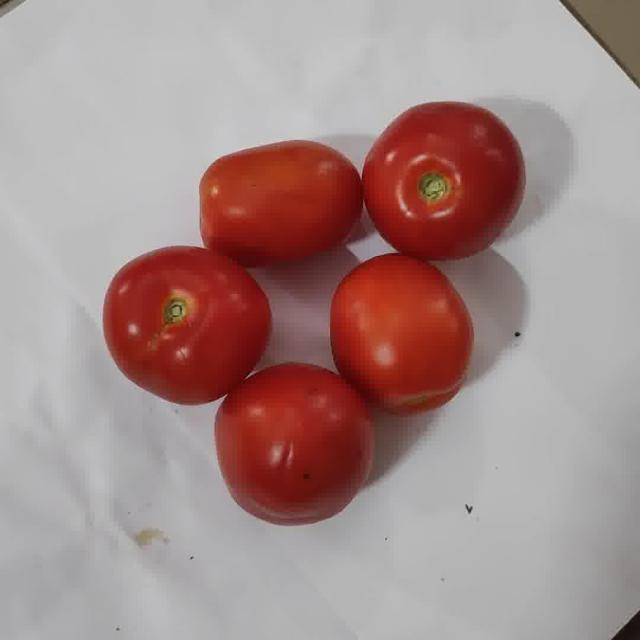Tomato: (103, 248, 270, 404), (215, 363, 374, 525), (361, 103, 524, 260), (330, 254, 472, 411), (200, 140, 360, 267)
